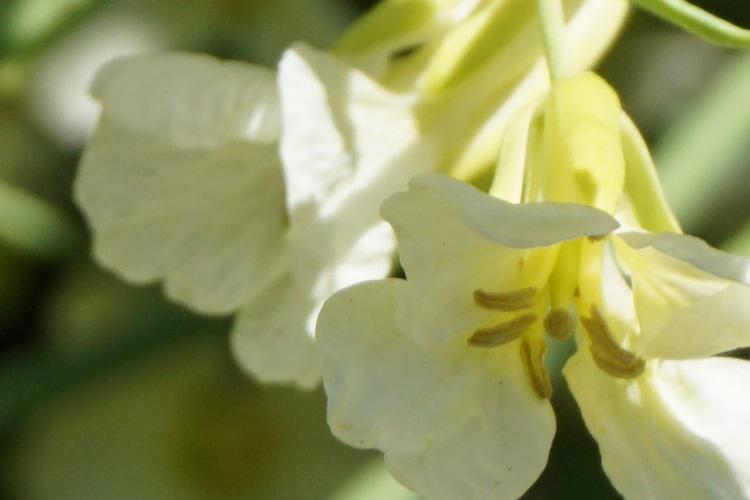white: (308, 131, 748, 495), (60, 51, 439, 314)
